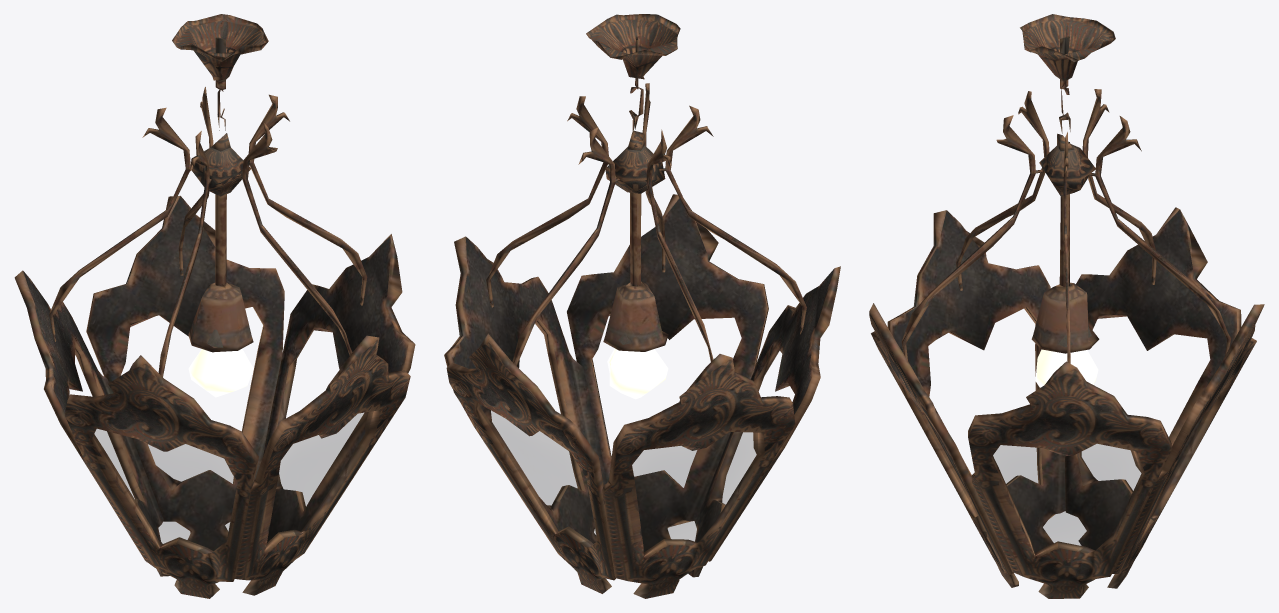
The model's file is lantern_chandelier_01_lod2.glb.
The picture shows the model from 3 angles, left to right: view 1: azimuth 30°, elevation 25°; view 2: azimuth 150°, elevation 25°; view 3: azimuth 270°, elevation 25°; orthographic projection.
Visible parts, largest first — view 1: lantern_chandelier_01; view 2: lantern_chandelier_01; view 3: lantern_chandelier_01.
Part boxes in pixels (x1,y1,x2,y2): lantern_chandelier_01: (14,14,415,598); lantern_chandelier_01: (444,14,840,598); lantern_chandelier_01: (869,14,1264,598).
Size of the model in its own units: 0.5752 by 0.868 by 0.5687.
3 materials, 2 textured.
